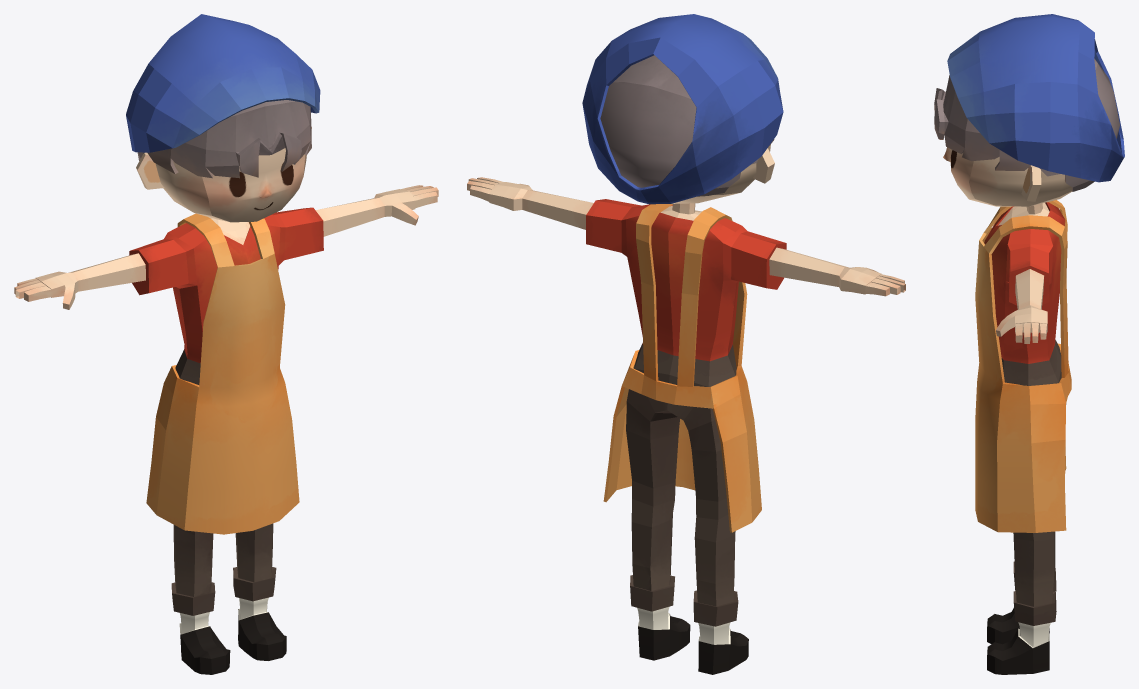
The model's file is LarryTexture.obj.
3 views of the same model, side by side, from view 1: azimuth 30°, elevation 25°; view 2: azimuth 150°, elevation 25°; view 3: azimuth 270°, elevation 25° (orthographic). The views are drawn at different scales.
Visible parts, largest first — view 1: Apron_standardSurface8SG, Body_standardSurface8SG, Head_uv_standardSurface7SG_2, Head_uv_standardSurface7SG_1, Head_uv_standardSurface7SG, ears_standardSurface7SG; view 2: Body_standardSurface8SG, Head_uv_standardSurface7SG_2, Apron_standardSurface8SG, Head_uv_standardSurface7SG_1, Head_uv_standardSurface7SG; view 3: Head_uv_standardSurface7SG_2, Apron_standardSurface8SG, Body_standardSurface8SG, Head_uv_standardSurface7SG_1, Head_uv_standardSurface7SG, ears_standardSurface7SG.
Boxes of the visible parts, <box> form: Apron_standardSurface8SG: <box>146,213,299,534</box>; Body_standardSurface8SG: <box>14,185,438,674</box>; Head_uv_standardSurface7SG_2: <box>126,14,320,152</box>; Head_uv_standardSurface7SG_1: <box>137,100,311,178</box>; Head_uv_standardSurface7SG: <box>155,148,306,222</box>; ears_standardSurface7SG: <box>136,127,311,189</box>; Body_standardSurface8SG: <box>467,177,905,674</box>; Head_uv_standardSurface7SG_2: <box>582,14,783,204</box>; Apron_standardSurface8SG: <box>603,204,761,532</box>; Head_uv_standardSurface7SG_1: <box>600,55,774,196</box>; Head_uv_standardSurface7SG: <box>672,144,770,203</box>; Head_uv_standardSurface7SG_2: <box>947,14,1124,182</box>; Apron_standardSurface8SG: <box>975,200,1071,532</box>; Body_standardSurface8SG: <box>984,202,1066,674</box>; Head_uv_standardSurface7SG_1: <box>934,58,1119,191</box>; Head_uv_standardSurface7SG: <box>943,147,1072,206</box>; ears_standardSurface7SG: <box>1021,165,1041,201</box>.
Size of the model in its own units: 15.43 by 21.82 by 5.94.
Materials: 2 (2 with a texture image).
